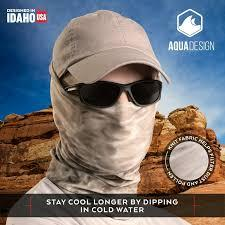cap: (47, 3, 193, 93)
scarf-kerchief: (42, 88, 168, 192)
sunglasses: (74, 76, 166, 111)
